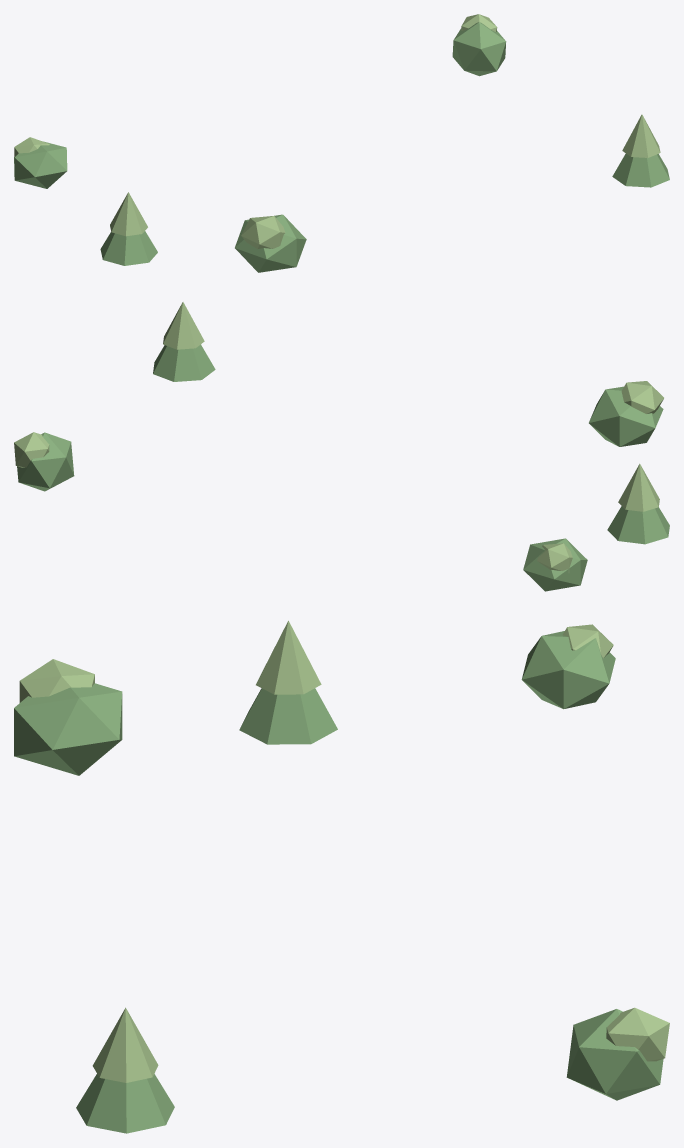
Rendered from cap_cave_mouth_wind_canopies.fbx.
3 renders of one model, top to bottom at view 1: azimuth 30°, elevation 25°; view 2: azimuth 150°, elevation 25°; view 3: azimuth 270°, elevation 25°, orthographic. The views are drawn at different scales.
Visible parts, largest first — view 1: chunk_cap_cave_mouth__tree_canopy_09, chunk_cap_cave_mouth__tree_canopy_06, chunk_cap_cave_mouth__tree_canopy_02, chunk_cap_cave_mouth__tree_canopy_03, chunk_cap_cave_mouth__tree_canopy_08, chunk_cap_cave_mouth__tree_canopy_05, chunk_cap_cave_mouth__tree_canopy_04, chunk_cap_cave_mouth__tree_canopy_07; view 2: chunk_cap_cave_mouth__tree_canopy_06, chunk_cap_cave_mouth__tree_canopy_09, chunk_cap_cave_mouth__tree_canopy_02, chunk_cap_cave_mouth__tree_canopy_03, chunk_cap_cave_mouth__tree_canopy_08, chunk_cap_cave_mouth__tree_canopy_04, chunk_cap_cave_mouth__tree_canopy_07, chunk_cap_cave_mouth__tree_canopy_05, chunk_cap_cave_mouth__tree_canopy_10, chunk_cap_cave_mouth__tree_canopy_01; view 3: chunk_cap_cave_mouth__tree_canopy_06, chunk_cap_cave_mouth__tree_canopy_09, chunk_cap_cave_mouth__tree_canopy_02, chunk_cap_cave_mouth__tree_canopy_08, chunk_cap_cave_mouth__tree_canopy_03, chunk_cap_cave_mouth__tree_canopy_07, chunk_cap_cave_mouth__tree_canopy_04, chunk_cap_cave_mouth__tree_canopy_10, chunk_cap_cave_mouth__tree_canopy_05, chunk_cap_cave_mouth__tree_canopy_01.
Part boxes in pixels (x1,y1,x2,y2): chunk_cap_cave_mouth__tree_canopy_09: (452, 22, 506, 76); chunk_cap_cave_mouth__tree_canopy_06: (235, 214, 306, 272); chunk_cap_cave_mouth__tree_canopy_02: (14, 141, 67, 188); chunk_cap_cave_mouth__tree_canopy_03: (100, 231, 157, 265); chunk_cap_cave_mouth__tree_canopy_08: (612, 153, 669, 187); chunk_cap_cave_mouth__tree_canopy_05: (241, 216, 285, 248); chunk_cap_cave_mouth__tree_canopy_04: (110, 192, 147, 236); chunk_cap_cave_mouth__tree_canopy_07: (622, 114, 660, 157); chunk_cap_cave_mouth__tree_canopy_06: (589, 386, 663, 446); chunk_cap_cave_mouth__tree_canopy_09: (17, 432, 74, 491); chunk_cap_cave_mouth__tree_canopy_02: (523, 538, 587, 591); chunk_cap_cave_mouth__tree_canopy_03: (607, 506, 669, 544); chunk_cap_cave_mouth__tree_canopy_08: (153, 344, 215, 381); chunk_cap_cave_mouth__tree_canopy_04: (618, 463, 659, 511); chunk_cap_cave_mouth__tree_canopy_07: (163, 302, 204, 349); chunk_cap_cave_mouth__tree_canopy_05: (621, 381, 663, 413); chunk_cap_cave_mouth__tree_canopy_10: (14, 432, 49, 467); chunk_cap_cave_mouth__tree_canopy_01: (537, 543, 572, 572); chunk_cap_cave_mouth__tree_canopy_06: (14, 683, 122, 775); chunk_cap_cave_mouth__tree_canopy_09: (566, 1009, 663, 1100); chunk_cap_cave_mouth__tree_canopy_02: (521, 631, 615, 709); chunk_cap_cave_mouth__tree_canopy_08: (76, 1074, 174, 1133); chunk_cap_cave_mouth__tree_canopy_03: (239, 688, 337, 744); chunk_cap_cave_mouth__tree_canopy_07: (92, 1007, 158, 1082); chunk_cap_cave_mouth__tree_canopy_04: (256, 620, 321, 694); chunk_cap_cave_mouth__tree_canopy_10: (606, 1007, 669, 1061); chunk_cap_cave_mouth__tree_canopy_05: (19, 659, 94, 702); chunk_cap_cave_mouth__tree_canopy_01: (562, 624, 613, 658).
Bounding box in the file's own units: 181 × 23.28 × 116.
